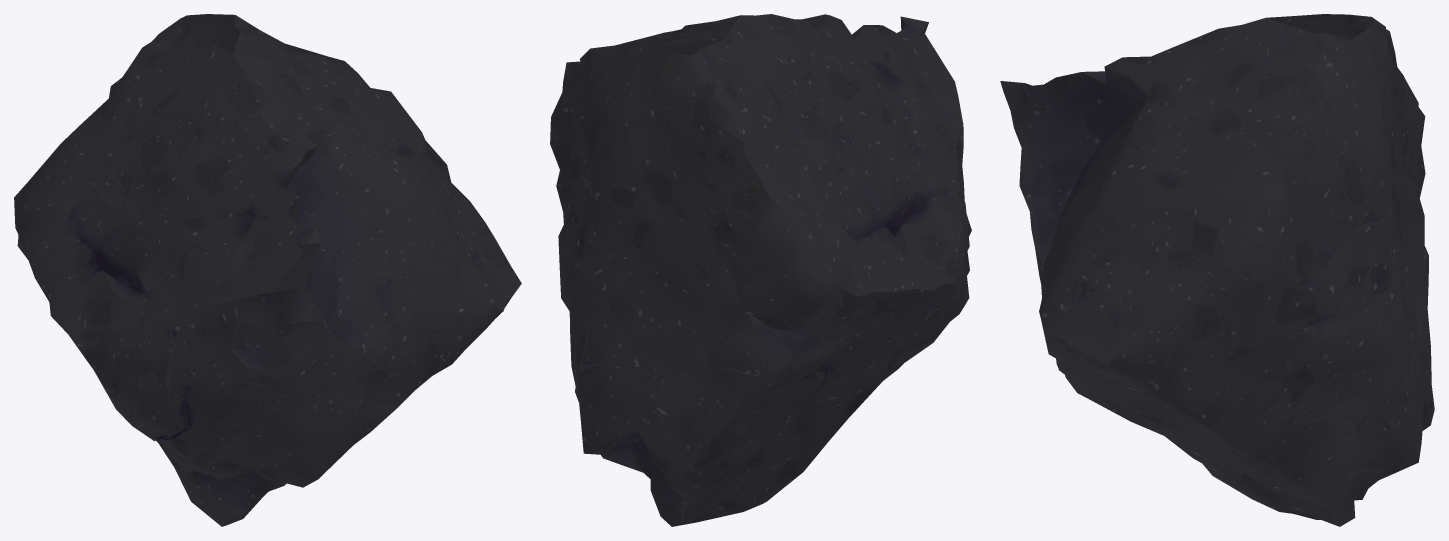
The model's file is rock-small-debris.glb.
3 views of the same model, side by side, from view 1: azimuth 30°, elevation 25°; view 2: azimuth 150°, elevation 25°; view 3: azimuth 270°, elevation 25° (orthographic). The views are drawn at different scales.
Visible parts, largest first — view 1: Rock_F_SmallDebris; view 2: Rock_F_SmallDebris; view 3: Rock_F_SmallDebris.
Boxes of the visible parts, bbox=[...] form: Rock_F_SmallDebris: bbox=[14, 14, 521, 526]; Rock_F_SmallDebris: bbox=[550, 14, 971, 526]; Rock_F_SmallDebris: bbox=[1000, 14, 1434, 526].
Size of the model in its own units: 0.3218 by 0.3617 by 0.2909.
1 material, 1 textured.
